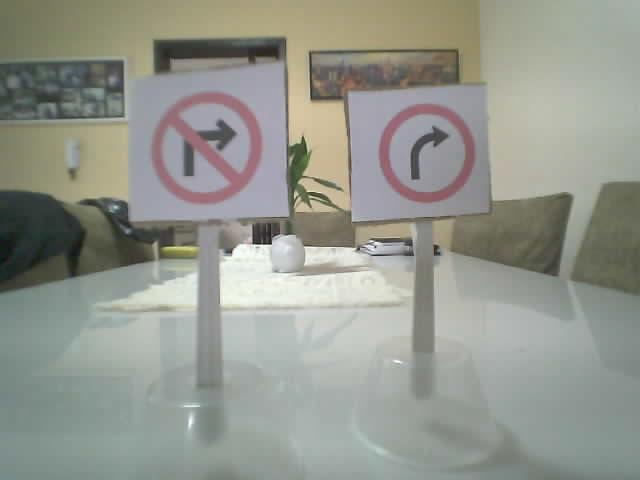R-25b_direita: (376, 103, 474, 203)
R-4b_proibido-direita: (150, 91, 261, 204)
